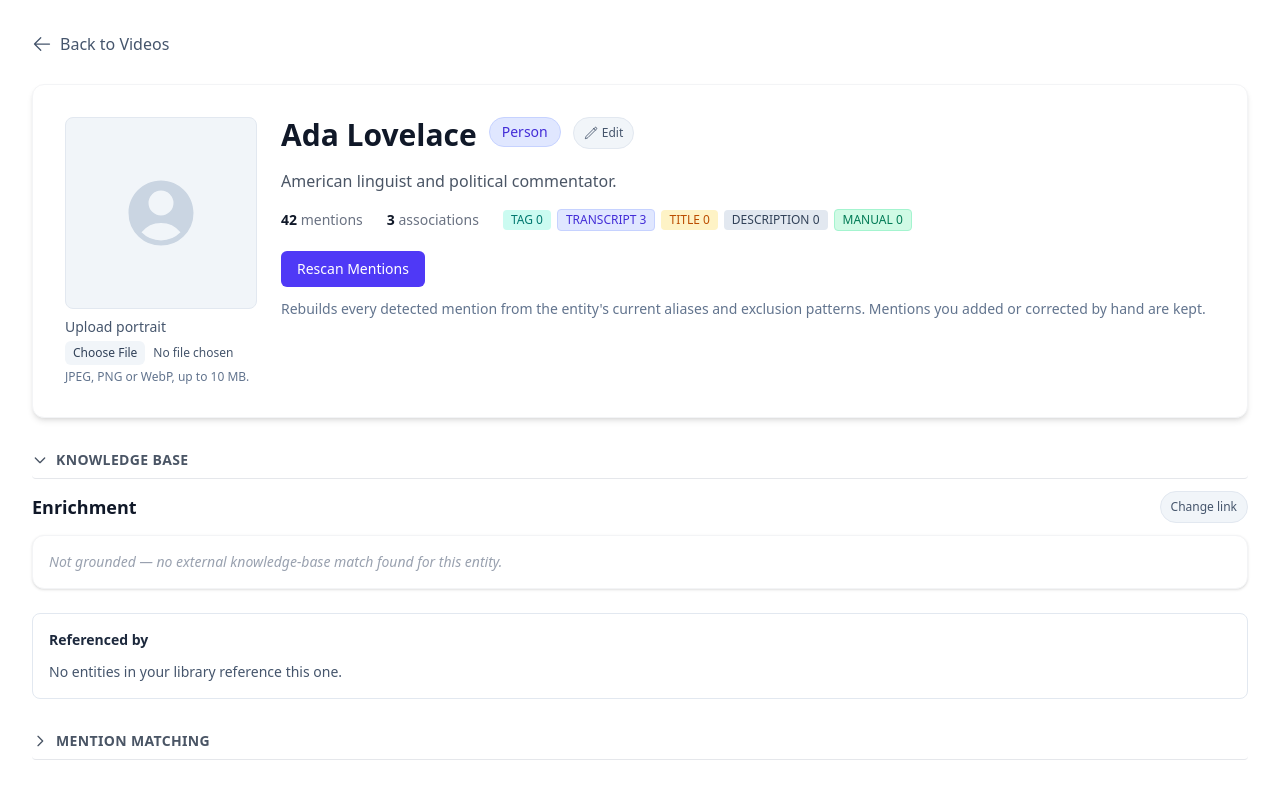
Test case: EntityDetailPage › Rescan Mentions button › success message with mention and video counts appears after a scan finds results
Step 1. Click the button "Rescan Mentions" → click(353, 269), box [281,251,425,287]
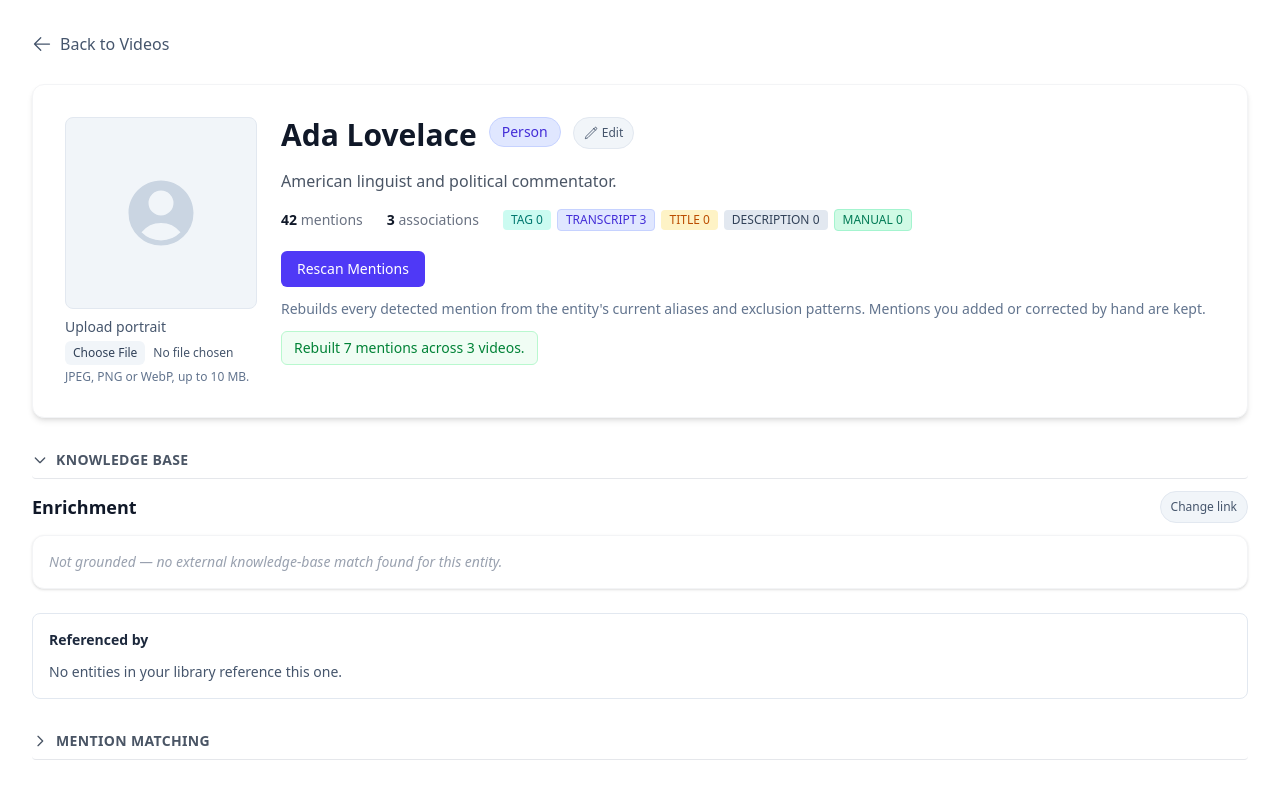
Now the text "Rebuilt 7 mentions across 3 videos." is shown, box [281,331,538,365]
